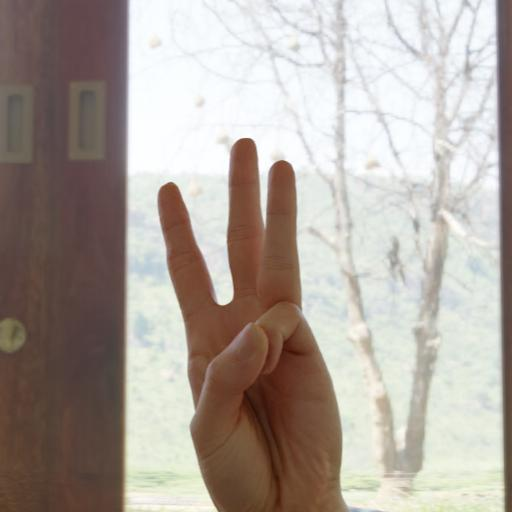W: (148, 124, 358, 512)
